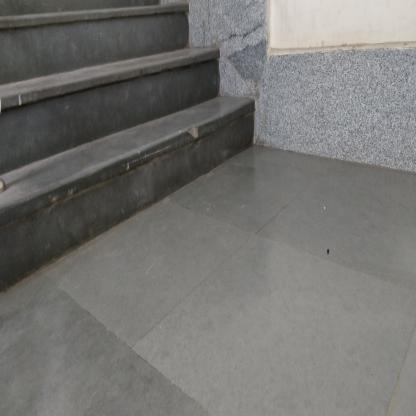stairs: (20, 17, 183, 287)
